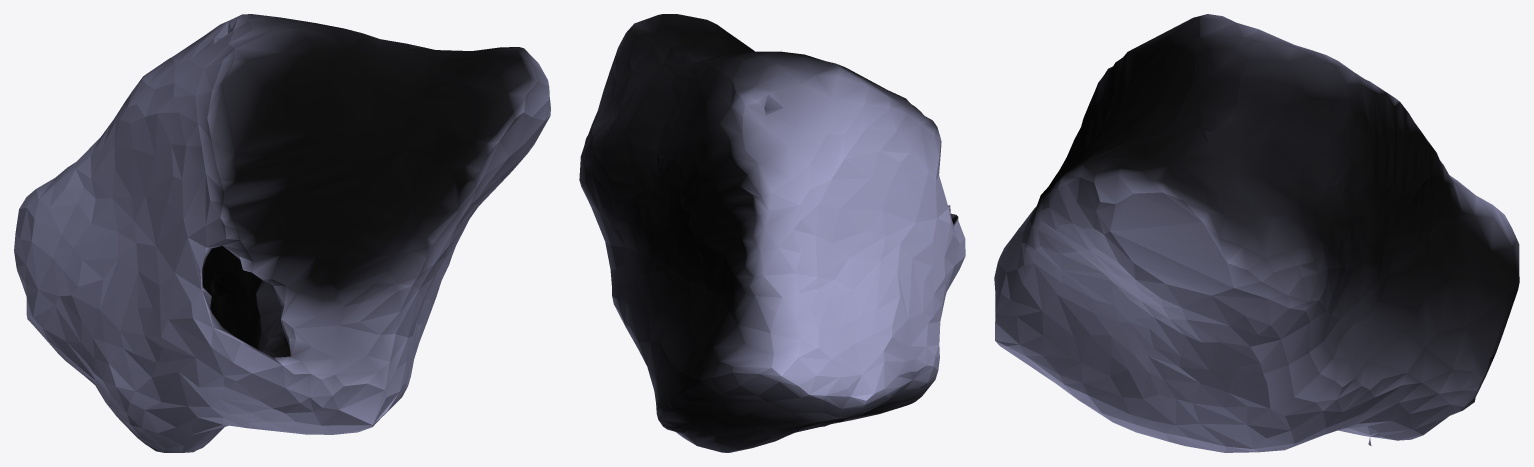
The model's file is Geometry5_lao.dae.
3 renders of one model, left to right at view 1: azimuth 30°, elevation 25°; view 2: azimuth 150°, elevation 25°; view 3: azimuth 270°, elevation 25°, orthographic. The views are drawn at different scales.
Parts seen in each view (by area): view 1: node; view 2: node; view 3: node.
Part boxes in pixels (x1,y1,x2,y2): node: (14,14,550,452); node: (579,14,965,452); node: (994,14,1519,452).
Bounding box in the file's own units: 31.19 × 29.62 × 34.88.
